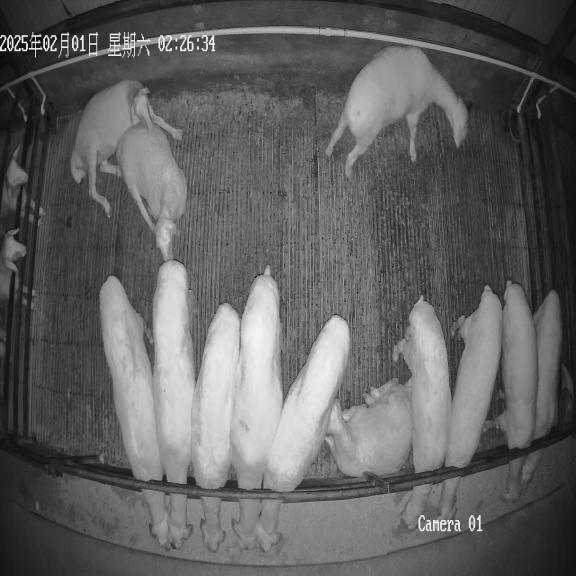eating: (255, 315, 350, 552), (100, 276, 170, 546), (230, 265, 283, 549), (439, 285, 502, 519), (392, 296, 452, 531), (153, 259, 196, 548), (191, 303, 240, 552), (485, 281, 538, 501), (520, 290, 562, 481)
lying: (70, 80, 182, 216), (116, 122, 187, 260), (325, 378, 412, 477)
stand: (326, 47, 468, 177)
